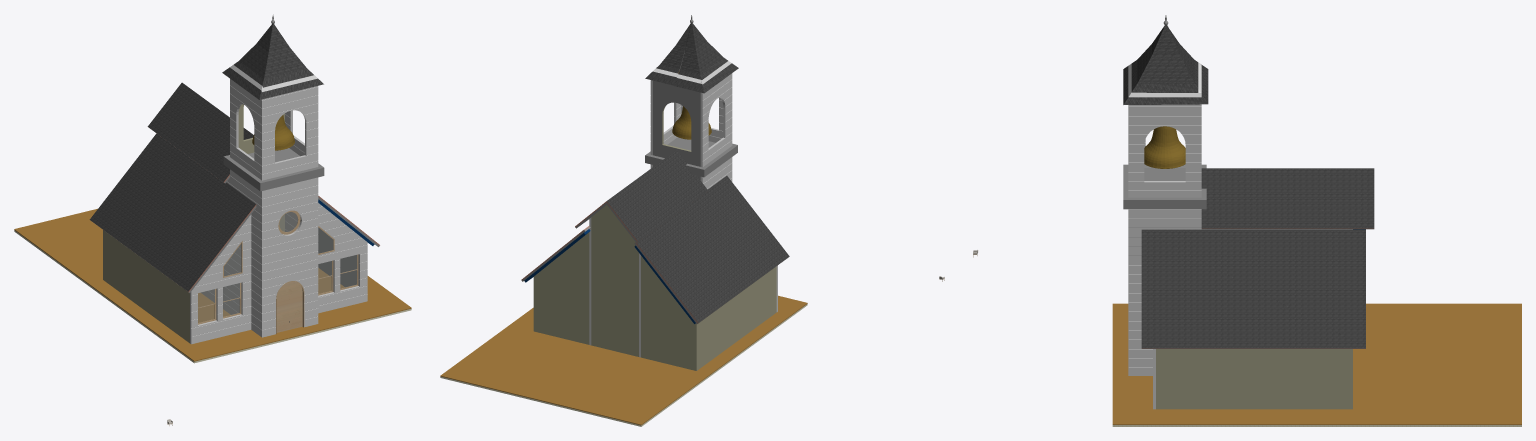
Rendered from church.fbx.
3 views of the same model, side by side, from view 1: azimuth 30°, elevation 25°; view 2: azimuth 150°, elevation 25°; view 3: azimuth 270°, elevation 25° (orthographic). The views are drawn at different scales.
Visible parts, largest first — view 1: СТН-005 (×6), СКР-001 (×2), ПЕР-001, СТН-008, МРФ-006, ОК-005 (×5), МРФ-002, ДВ-002, СТН-006, МРФ-005, ОК-006; view 2: СКР-001 (×2), ПЕР-001, СТН-007 (×3), СТН-005 (×4), СТН-008, МРФ-006, МРФ-002, МРФ-005; view 3: СКР-001 (×2), ПЕР-001, СТН-006, СТН-005 (×2), МРФ-006, МРФ-002, МРФ-005.
Boxes of the visible parts, box(x1,y1,x2,y2) form: СТН-005 (×6): box(190, 65, 367, 344); СКР-001 (×2): box(89, 82, 256, 292); ПЕР-001: box(14, 208, 411, 363); СТН-008: box(103, 230, 189, 343); МРФ-006: box(222, 24, 323, 99); ОК-005 (×5): box(198, 241, 358, 324); МРФ-002: box(223, 148, 324, 191); ДВ-002: box(276, 281, 304, 334); СТН-006: box(318, 227, 356, 287); МРФ-005: box(252, 115, 294, 150); ОК-006: box(278, 210, 300, 234); СКР-001 (×2): box(575, 150, 789, 323); ПЕР-001: box(440, 295, 807, 426); СТН-007 (×3): box(534, 205, 696, 370); СТН-005 (×4): box(589, 51, 732, 357); СТН-008: box(696, 266, 776, 370); МРФ-006: box(645, 23, 738, 93); МРФ-002: box(645, 137, 737, 177); МРФ-005: box(672, 106, 711, 139); СКР-001 (×2): box(1141, 168, 1374, 348); ПЕР-001: box(1112, 303, 1521, 426); СТН-006: box(1156, 349, 1352, 409); СТН-005 (×2): box(1128, 63, 1352, 375); МРФ-006: box(1123, 25, 1208, 104); МРФ-002: box(1123, 164, 1206, 209); МРФ-005: box(1144, 126, 1185, 168).
Bounding box in the file's own units: 3881 × 5339 × 3746.
14 materials, 5 textured.
